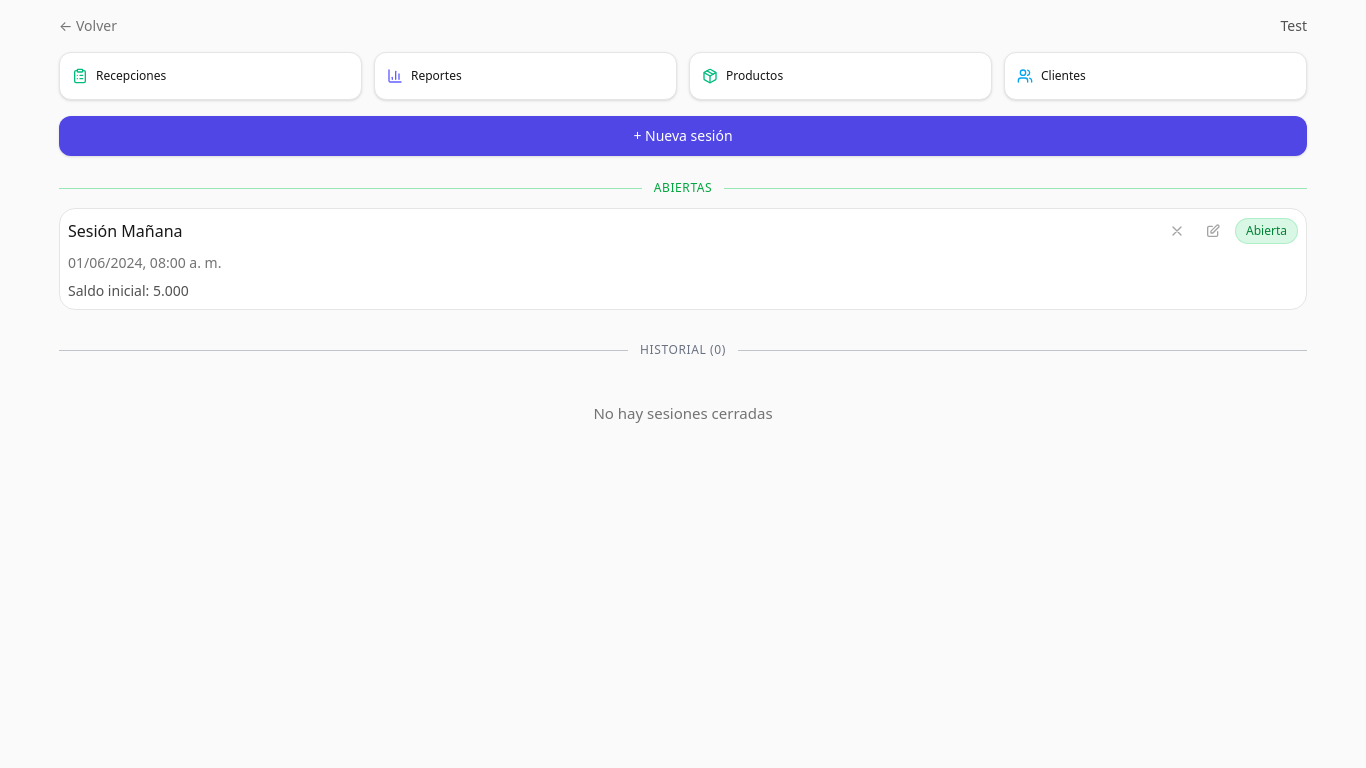
Test: BranchSessions › should show validation error when closing balance is empty
Click the button titled "Cerrar": (1177, 231) [1163, 217, 1191, 245]
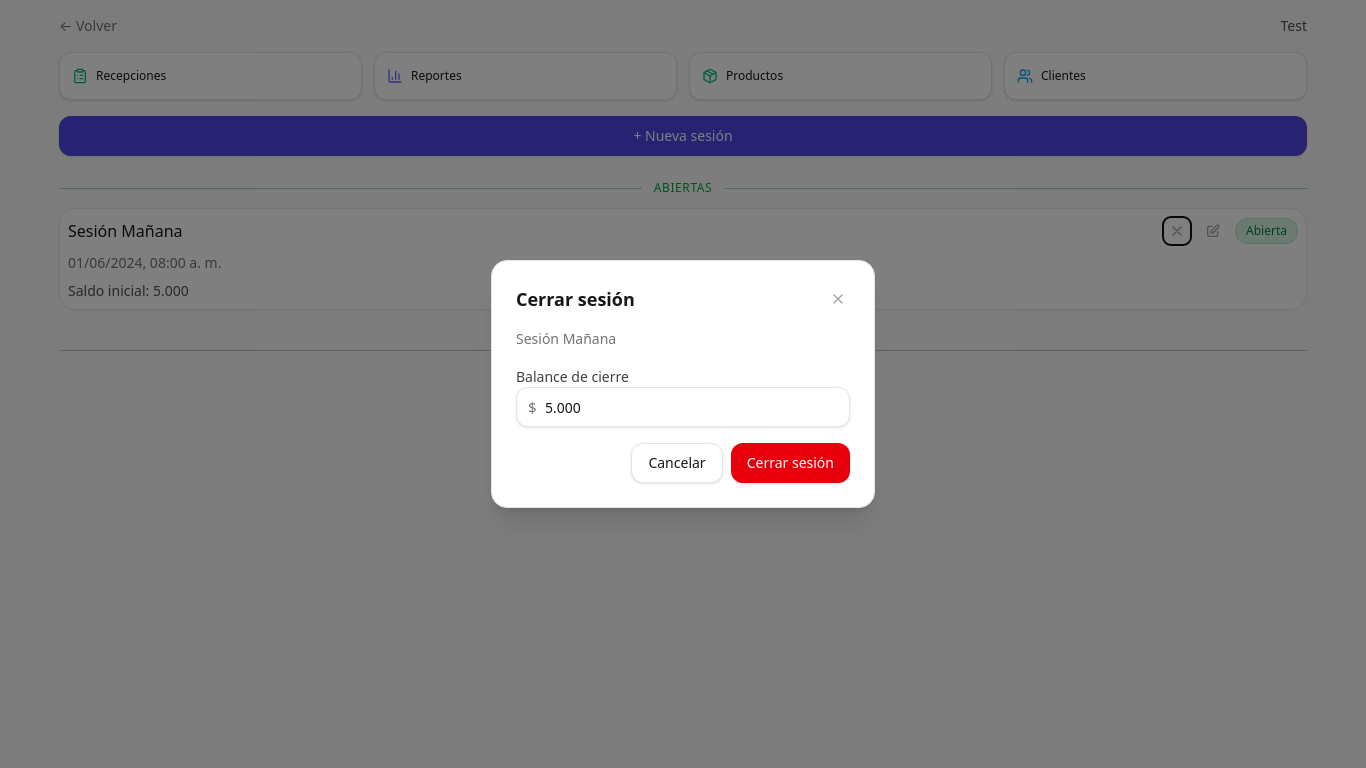
Result: the number of headings "Cerrar sesión" is 2 at [516, 285, 635, 313]; [731, 443, 850, 483]
Clear the field with placeholder "0": (683, 407) [516, 387, 850, 427]
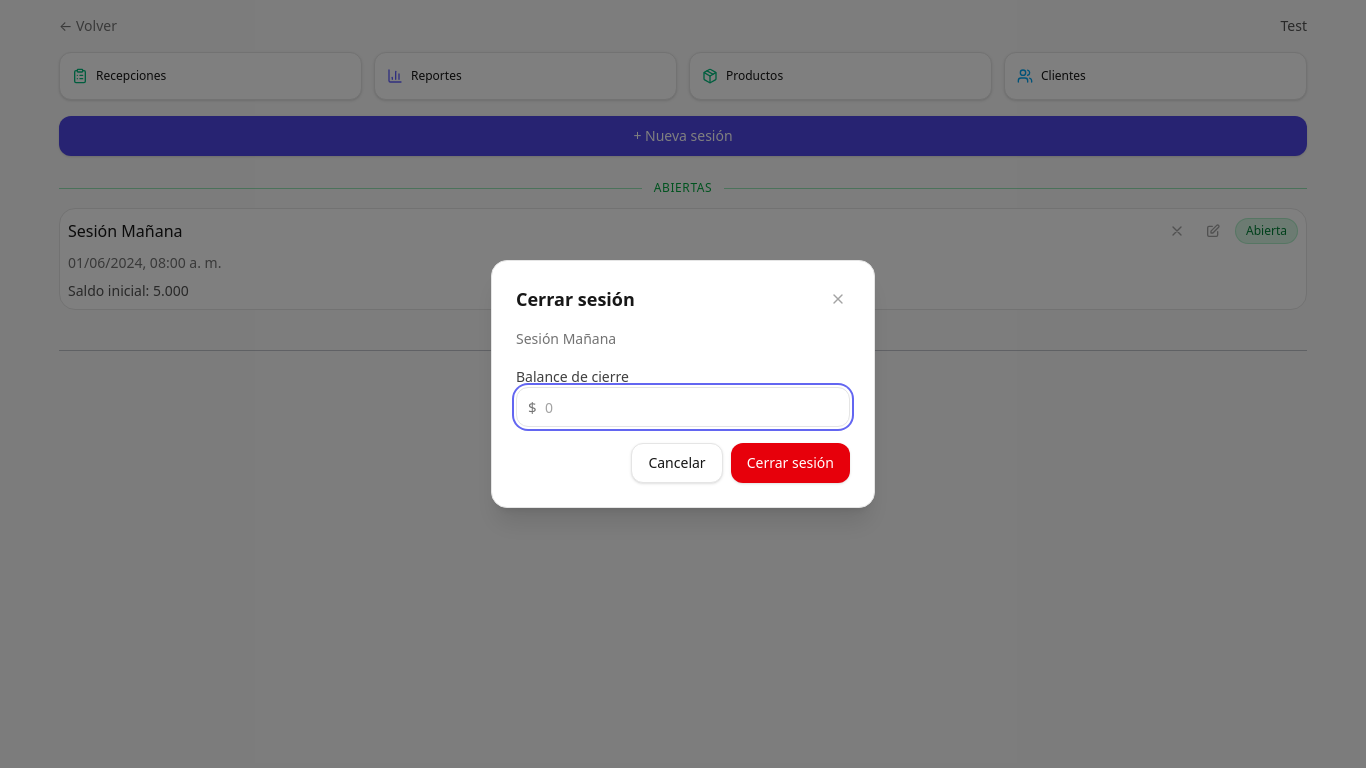
Click the button "Cerrar sesión": (790, 463) [731, 443, 850, 483]
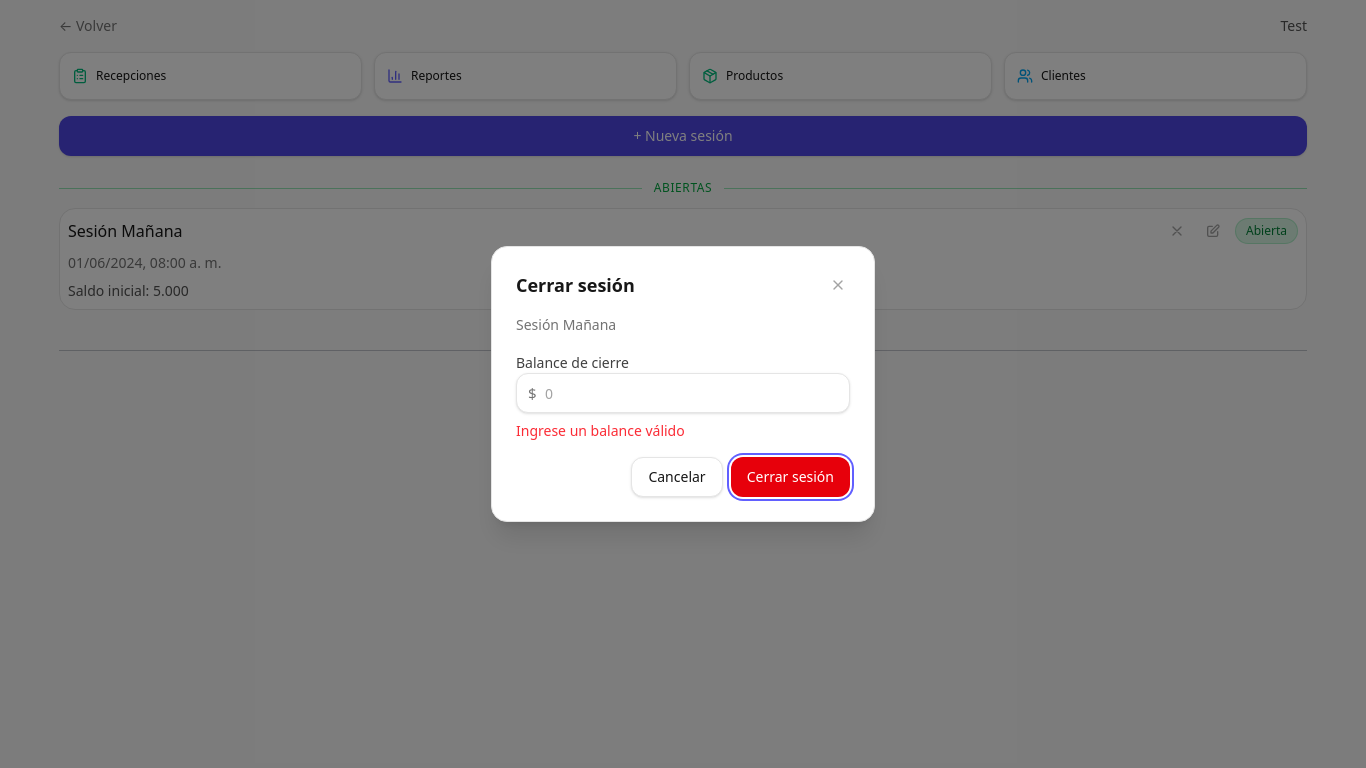
Result: the text "Ingrese un balance válido" is shown at [516, 421, 685, 440]
